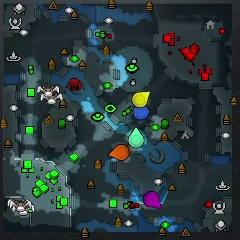p1: (133, 106, 150, 120)
p2: (128, 127, 145, 148)
p3: (144, 191, 161, 209)
p4: (133, 91, 151, 107)
p5: (109, 145, 130, 161)
